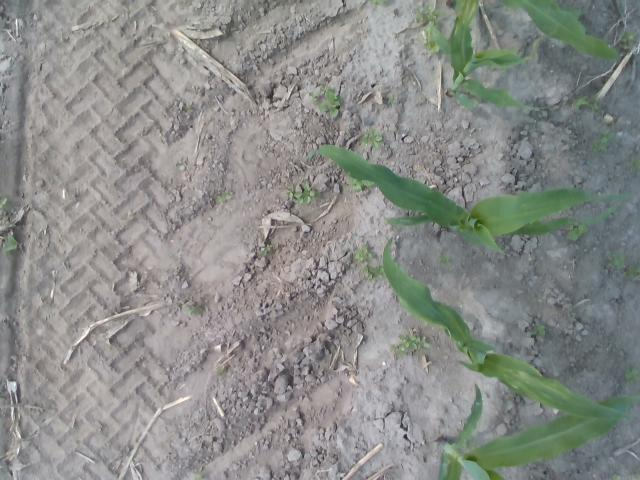Maize: (379, 236, 636, 421), (302, 146, 632, 258), (437, 383, 640, 480), (446, 0, 552, 119), (448, 0, 622, 67)
Weeds: (309, 85, 344, 117), (390, 333, 429, 358), (284, 183, 320, 204), (414, 3, 442, 25), (416, 26, 439, 52), (590, 130, 614, 153), (346, 175, 374, 193), (360, 129, 384, 148), (571, 95, 599, 111), (566, 223, 590, 241), (558, 2, 581, 20), (618, 30, 636, 52), (361, 264, 386, 279), (353, 245, 371, 263), (530, 319, 547, 337), (624, 365, 640, 384), (2, 234, 18, 252), (607, 252, 625, 268), (622, 266, 640, 277), (192, 467, 205, 480), (0, 196, 9, 214), (438, 252, 450, 265), (218, 190, 230, 202), (185, 306, 203, 314), (260, 245, 272, 256), (214, 366, 226, 377), (386, 95, 396, 105), (176, 160, 186, 170), (632, 156, 640, 168), (128, 209, 136, 220), (368, 0, 388, 4), (611, 473, 621, 480), (185, 100, 193, 108)
